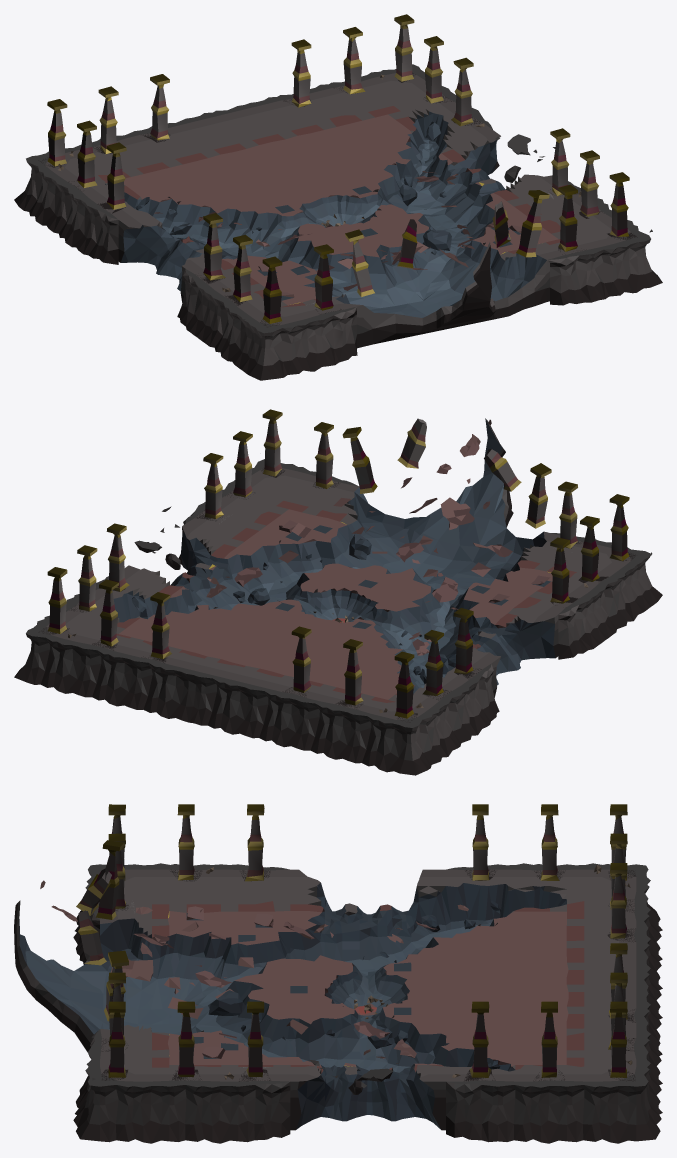
The model's file is wardensv3.glb.
The picture shows the model from 3 angles, top to bottom: view 1: azimuth 30°, elevation 25°; view 2: azimuth 150°, elevation 25°; view 3: azimuth 270°, elevation 25°; orthographic projection. The views are drawn at different scales.
Parts seen in each view (by area): view 1: region_0_0_15696; view 2: region_0_0_15696; view 3: region_0_0_15696.
Part boxes in pixels (x1,y1,x2,y2): region_0_0_15696: [14, 14, 662, 380]; region_0_0_15696: [14, 409, 662, 775]; region_0_0_15696: [14, 804, 662, 1143].
Bounding box in the file's own units: 41.08 × 11.66 × 48.03.
